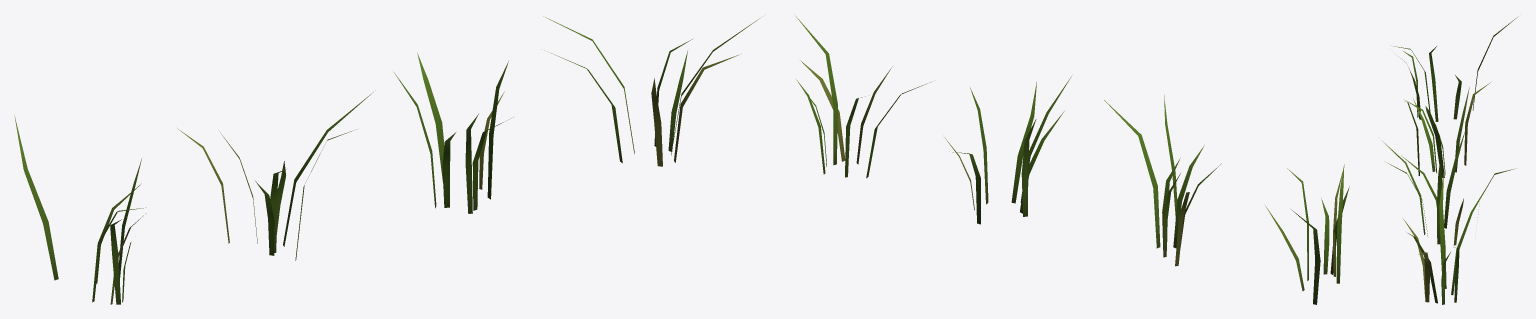
The model's file is grass_medium_lod2.glb.
The picture shows the model from 3 angles, left to right: view 1: azimuth 30°, elevation 25°; view 2: azimuth 150°, elevation 25°; view 3: azimuth 270°, elevation 25°; orthographic projection. The views are drawn at different scales.
Parts seen in each view (by area): view 1: Grass_medium_03_LOD2, Grass_medium_04_LOD2, Grass_medium_01_LOD2, Grass_medium_02_LOD2; view 2: Grass_medium_03_LOD2, Grass_medium_02_LOD2, Grass_medium_04_LOD2, Grass_medium_01_LOD2; view 3: Grass_medium_04_LOD2, Grass_medium_02_LOD2, Grass_medium_03_LOD2, Grass_medium_01_LOD2.
Boxes of the visible parts, bbox=[...] form: Grass_medium_03_LOD2: bbox=[394, 53, 513, 213]; Grass_medium_04_LOD2: bbox=[543, 16, 759, 166]; Grass_medium_01_LOD2: bbox=[14, 116, 146, 304]; Grass_medium_02_LOD2: bbox=[177, 90, 375, 260]; Grass_medium_03_LOD2: bbox=[944, 76, 1071, 224]; Grass_medium_02_LOD2: bbox=[1104, 95, 1221, 266]; Grass_medium_04_LOD2: bbox=[794, 14, 930, 178]; Grass_medium_01_LOD2: bbox=[1265, 164, 1349, 304]; Grass_medium_04_LOD2: bbox=[1403, 172, 1488, 304]; Grass_medium_02_LOD2: bbox=[1404, 82, 1490, 177]; Grass_medium_03_LOD2: bbox=[1378, 131, 1515, 245]; Grass_medium_01_LOD2: bbox=[1391, 16, 1518, 121].
Size of the model in its own units: 3.12 by 0.6463 by 0.8514.
Materials: 1 (1 with a texture image).
